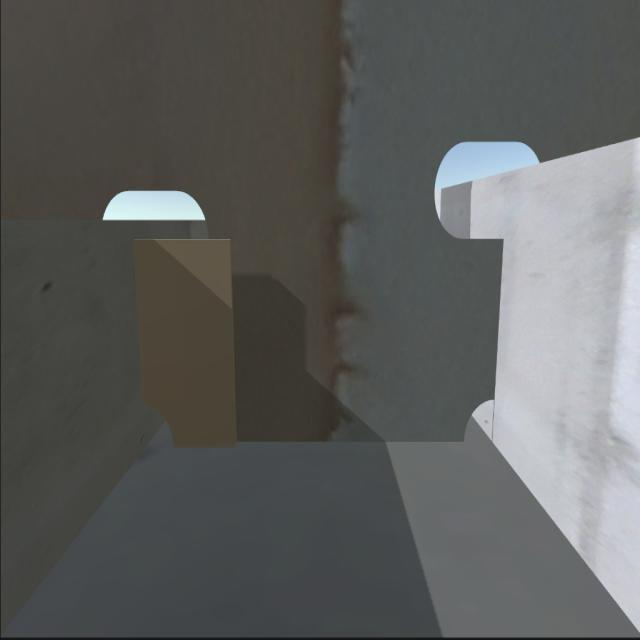fillet_hole: (456, 396, 497, 447), (136, 409, 176, 453)
fillet_yong_jeop_jang: (175, 437, 465, 449)
longi_yong_jeop_jang: (127, 243, 148, 411), (490, 238, 506, 401)
plate_CP01: (130, 238, 248, 451)
